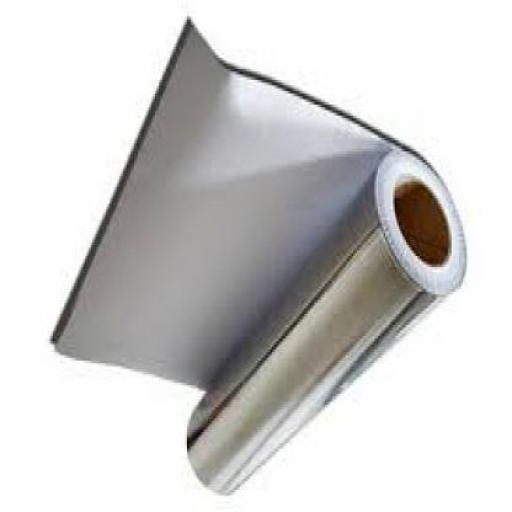metal: (52, 22, 462, 499)
